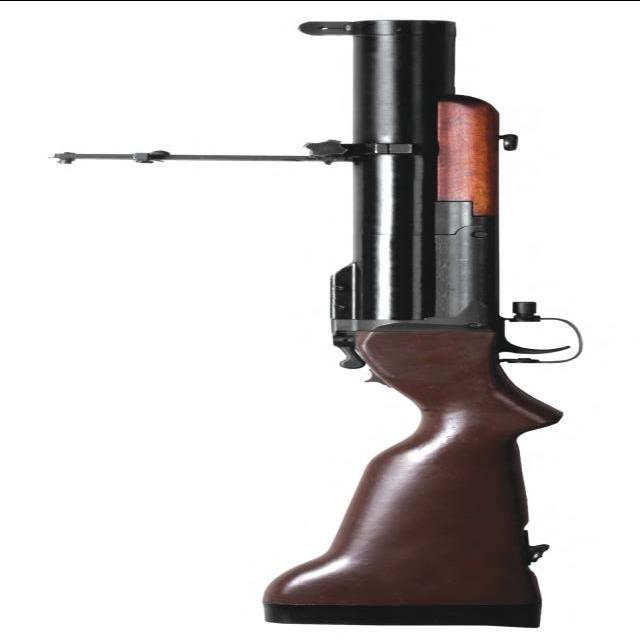rocket launcher: (220, 17, 577, 634)
